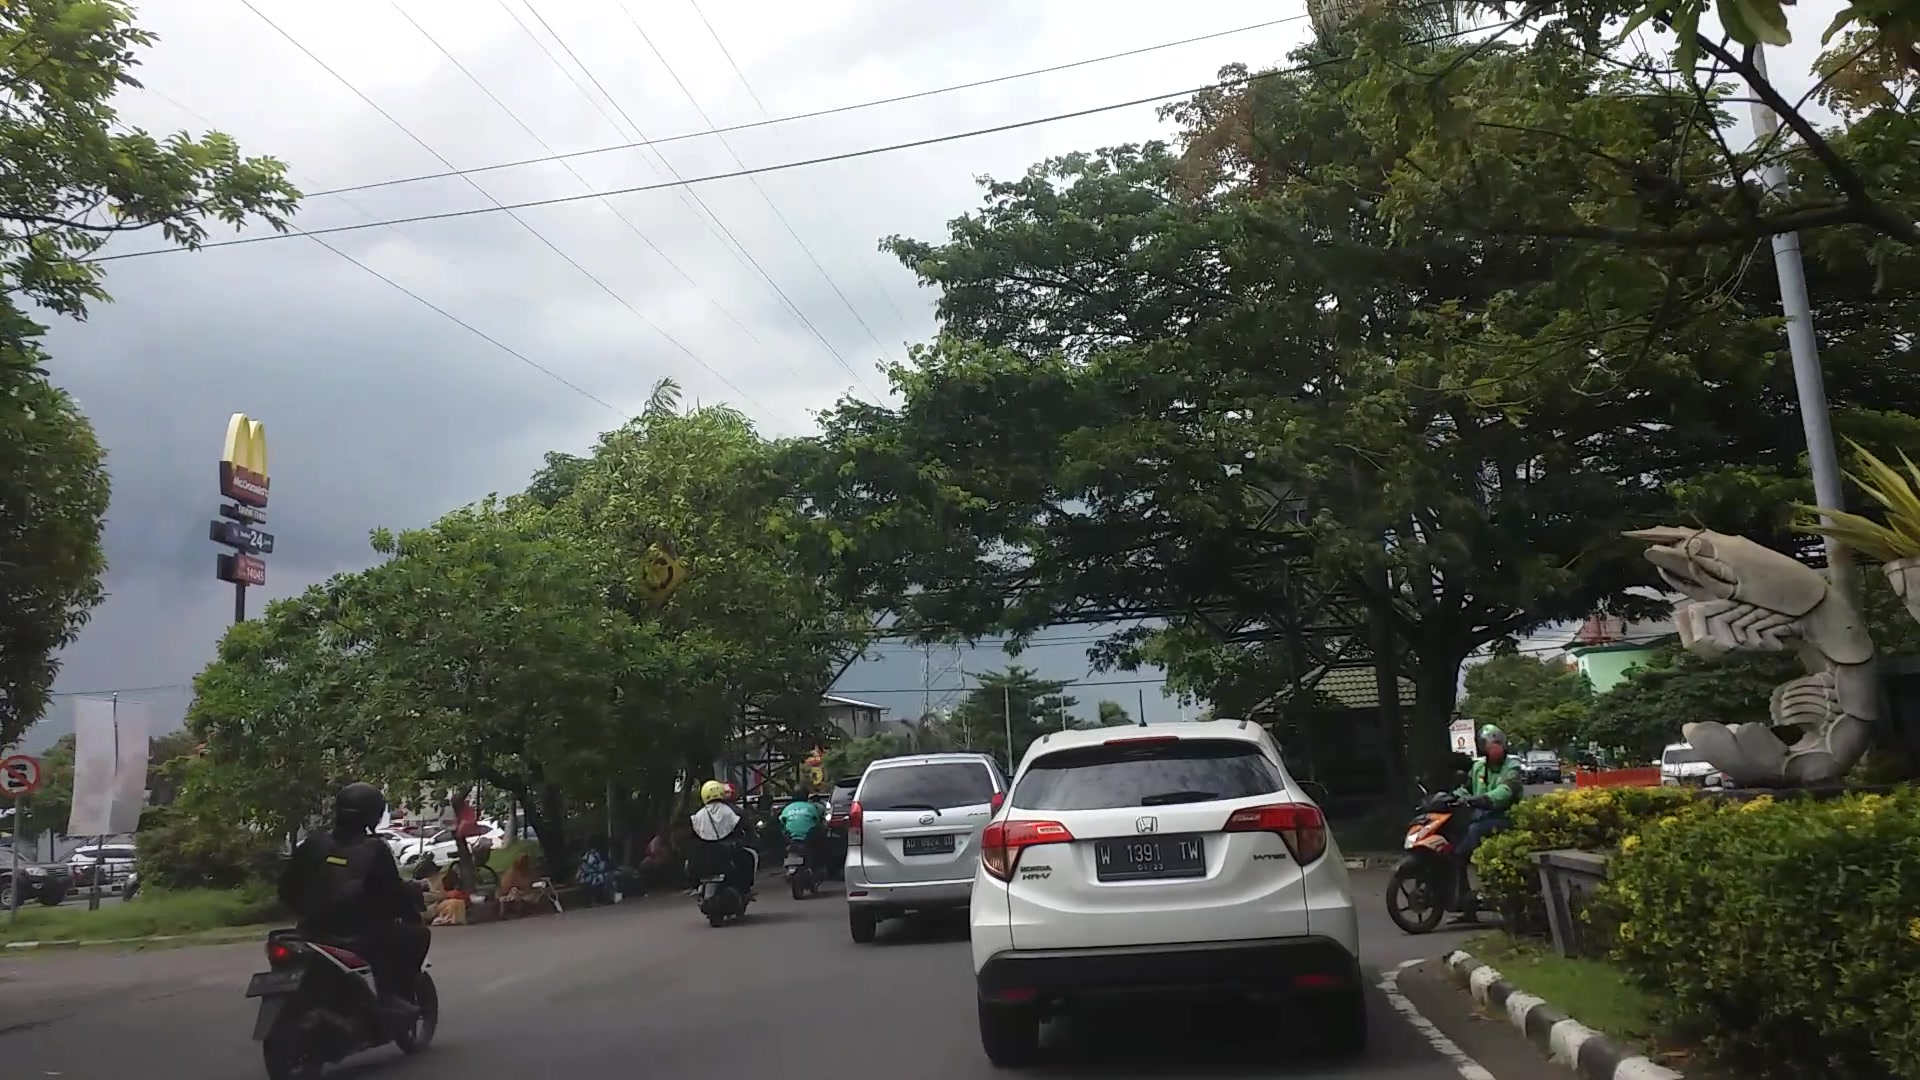plate_positive: (1096, 837, 1205, 881)
